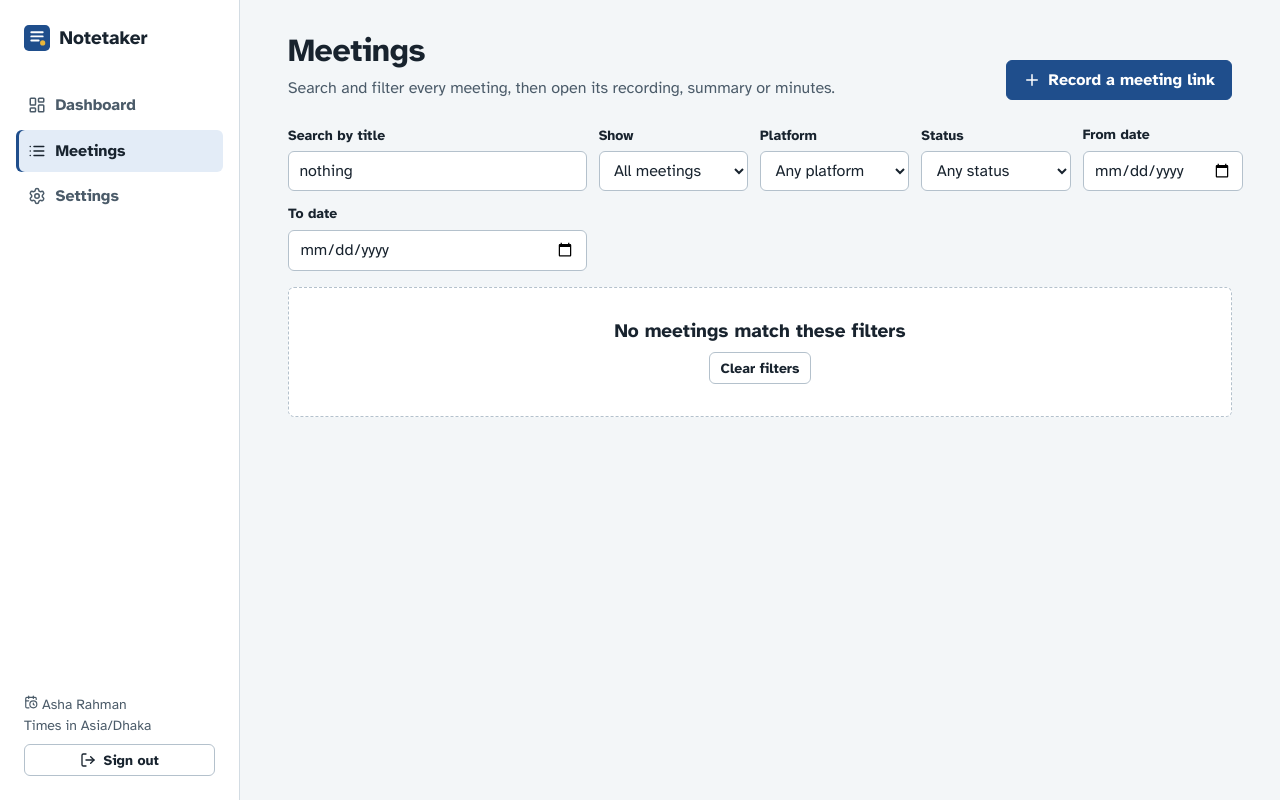
it: meetings page › shows a no-results state for filters and can clear them
Expected: the heading "No meetings match these filters" is shown, [614,320,906,342]
Click the button "Clear filters": click(760, 368) [709,352,811,384]
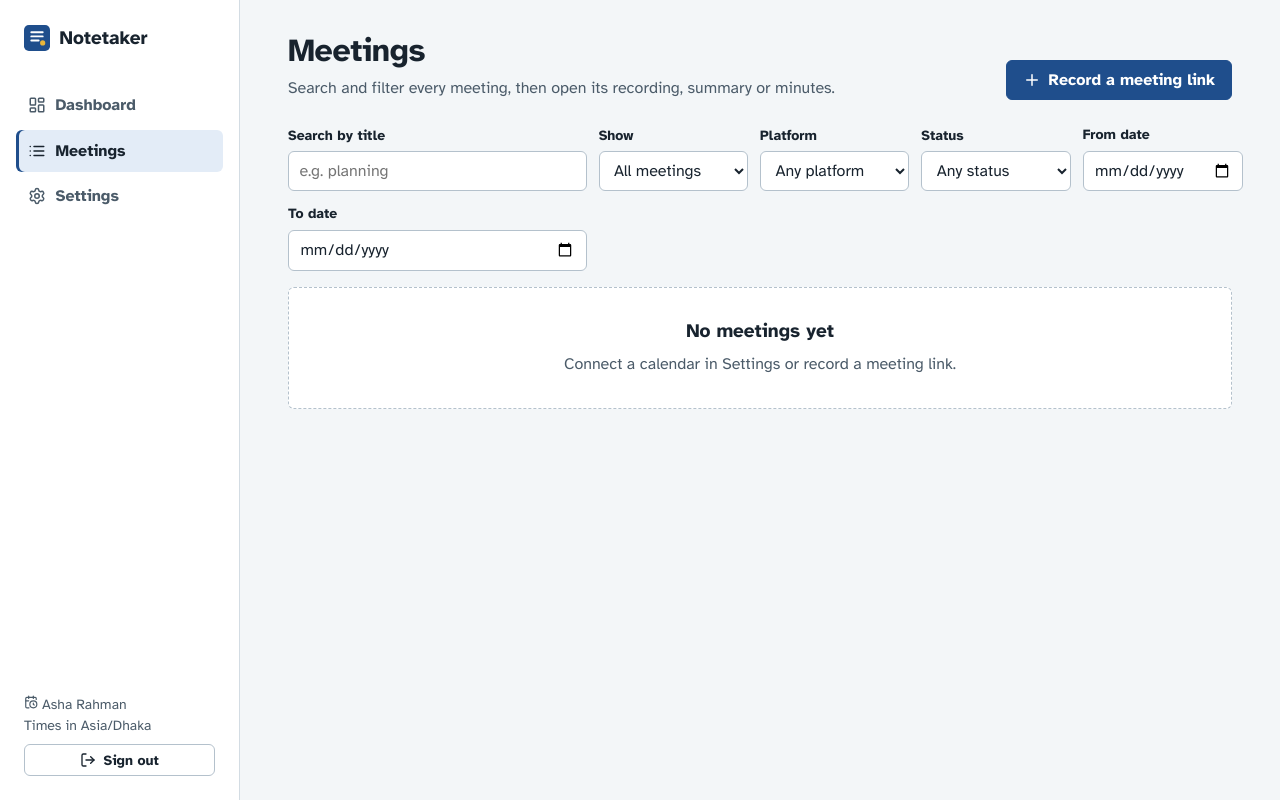
Expected: the heading "No meetings yet" is shown, [686,320,834,342]
